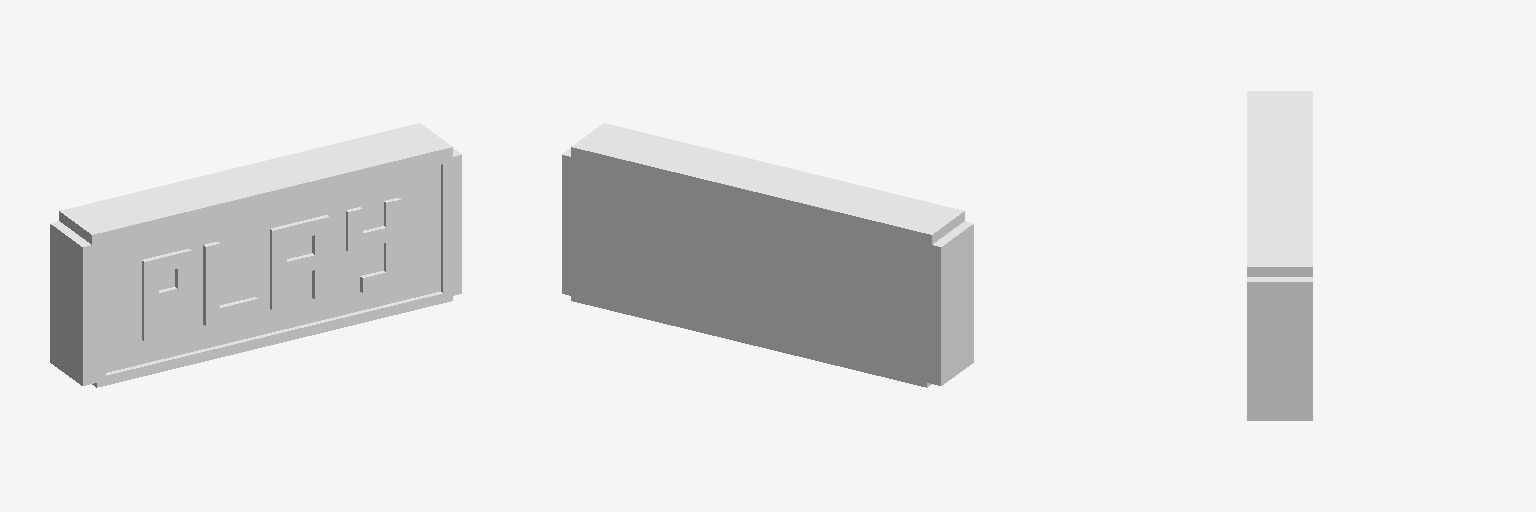
File: Button3.obj
3 views of the same model, side by side, from view 1: azimuth 30°, elevation 25°; view 2: azimuth 150°, elevation 25°; view 3: azimuth 270°, elevation 25° (orthographic).
Visible parts, largest first — view 1: object 1; view 2: object 1; view 3: object 1.
Boxes of the visible parts, box(x1,y1,x2,y2) form: object 1: box(50, 123, 461, 387); object 1: box(562, 123, 973, 387); object 1: box(1247, 91, 1312, 420).
Size of the model in its own units: 8 by 3.1 by 1.2.